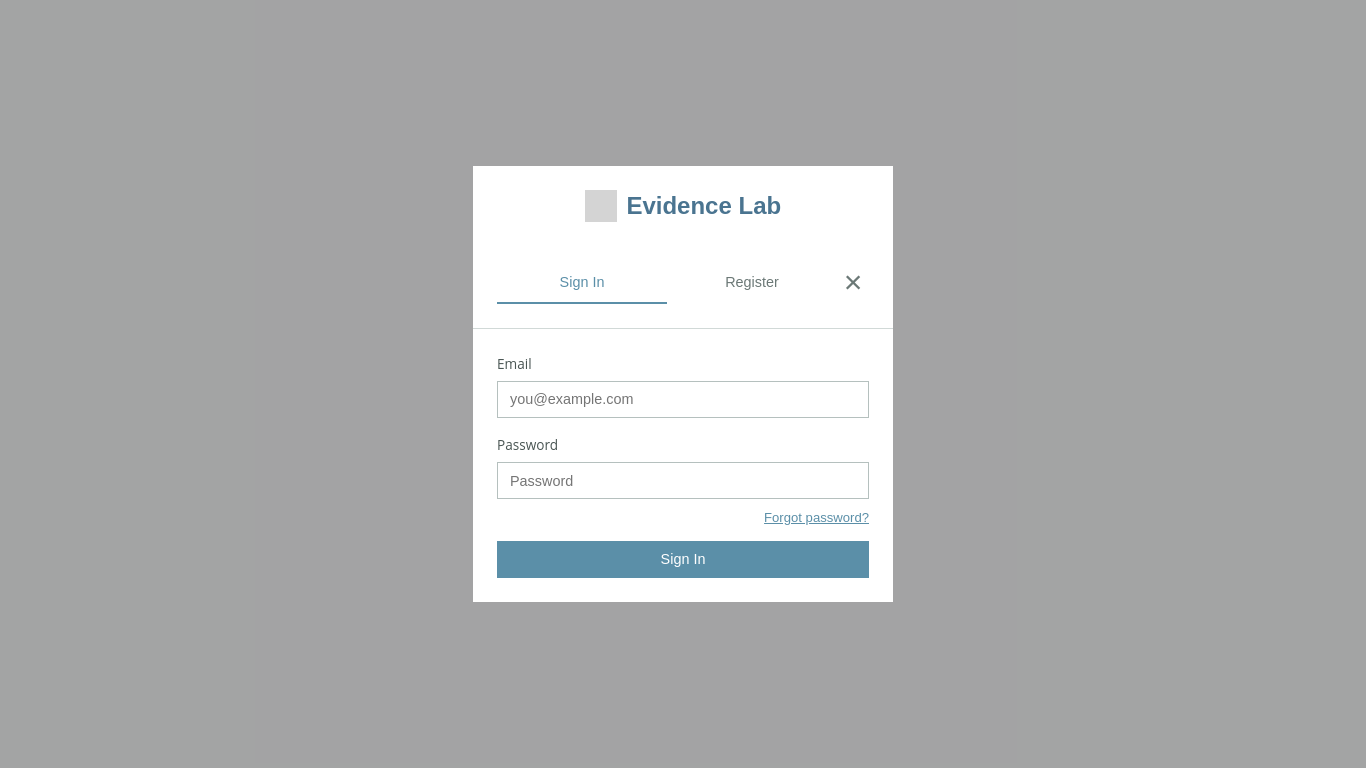
Test: LoginModal — Forgot password › switches to forgot mode when link is clicked
What coordinates should you click on to do the following:
click the button "Forgot password?"
I would click on:
 (817, 518)
Its box is [764,510,869,525].
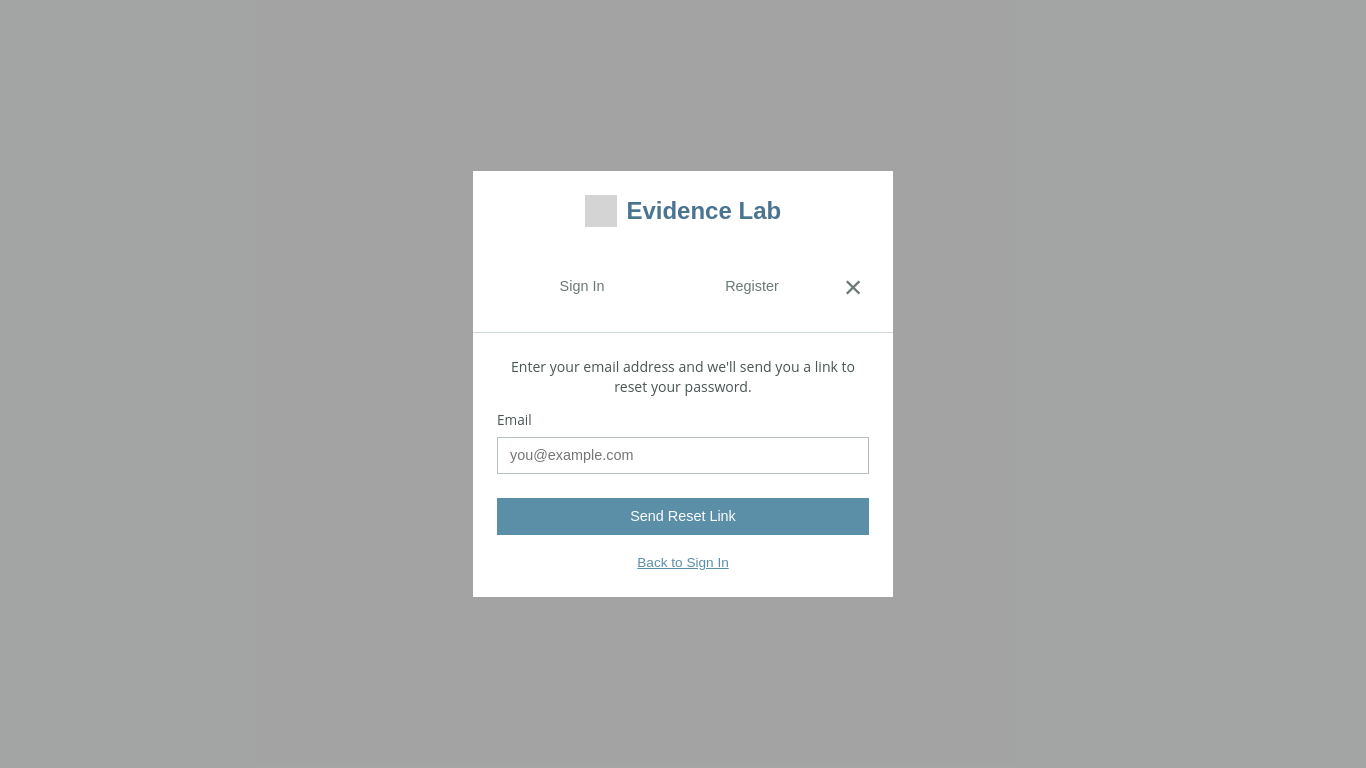
Now the text "Enter your email address and we'll send you a link" is shown, box [511,357,855,396]
Now the button "Send Reset Link" is shown, box [497,498,869,535]
